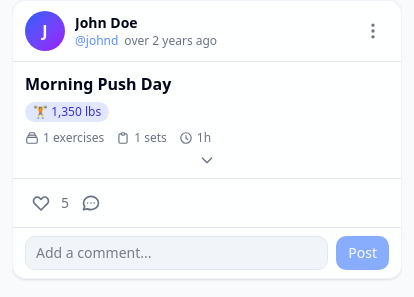
FeedWorkoutCard › three-dot menu › should show "Copy to plans" option for other users workouts
The width and height of the screenshot is (414, 297).
Note: Open the menu
Click the button named "More options": [373, 31] box [357,15,389,47]
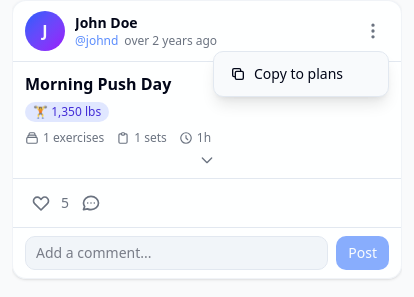
Now the button "Copy to plans" is shown, box [214,56,388,92]
